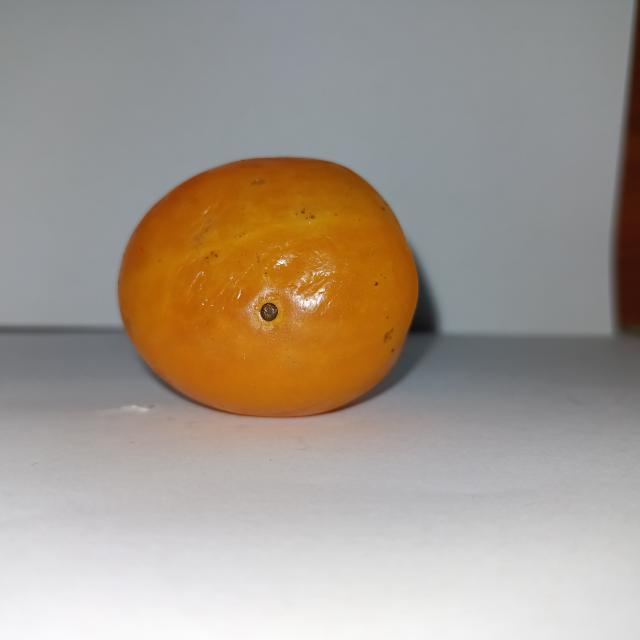Red: (116, 154, 421, 418)
